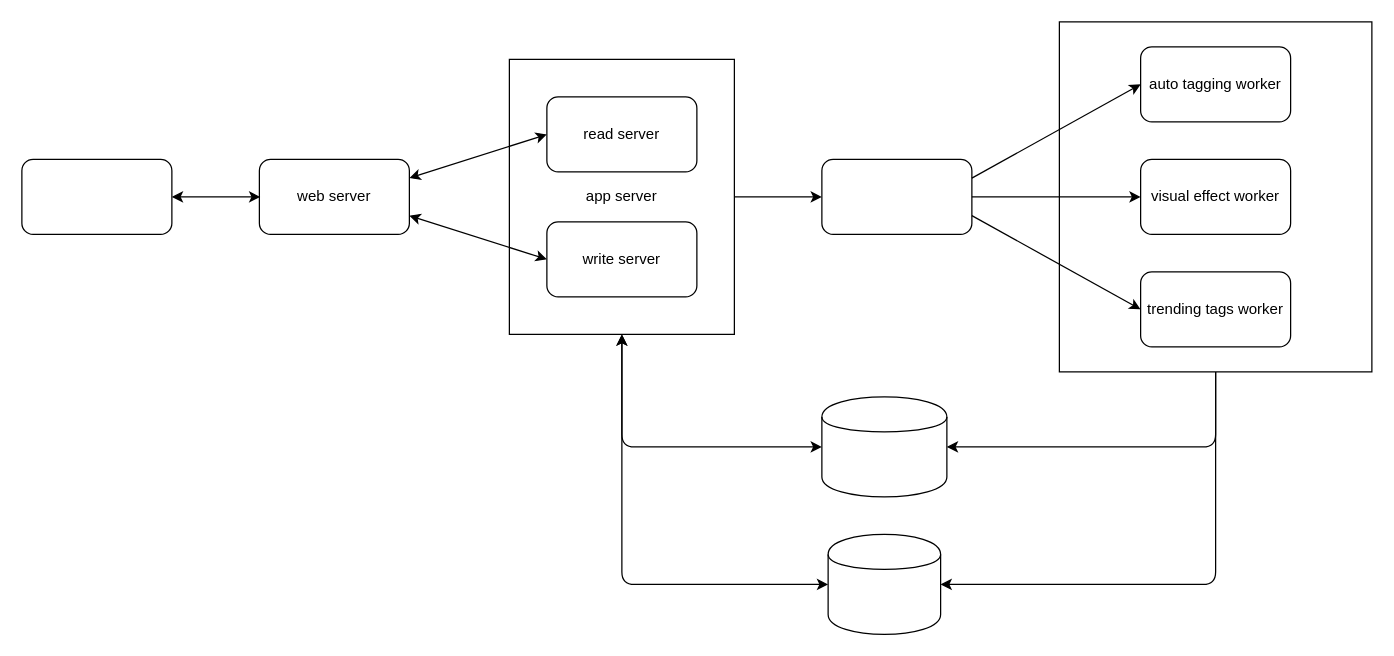
This 1394x656 diagram has some shape labels left out. The shapes that lost their labels are listed below. From the top down, each one's centre as x and y in pixels, then its label:
point 96,196: client
point 896,196: message queue
point 884,446: databse
point 884,583: cache
